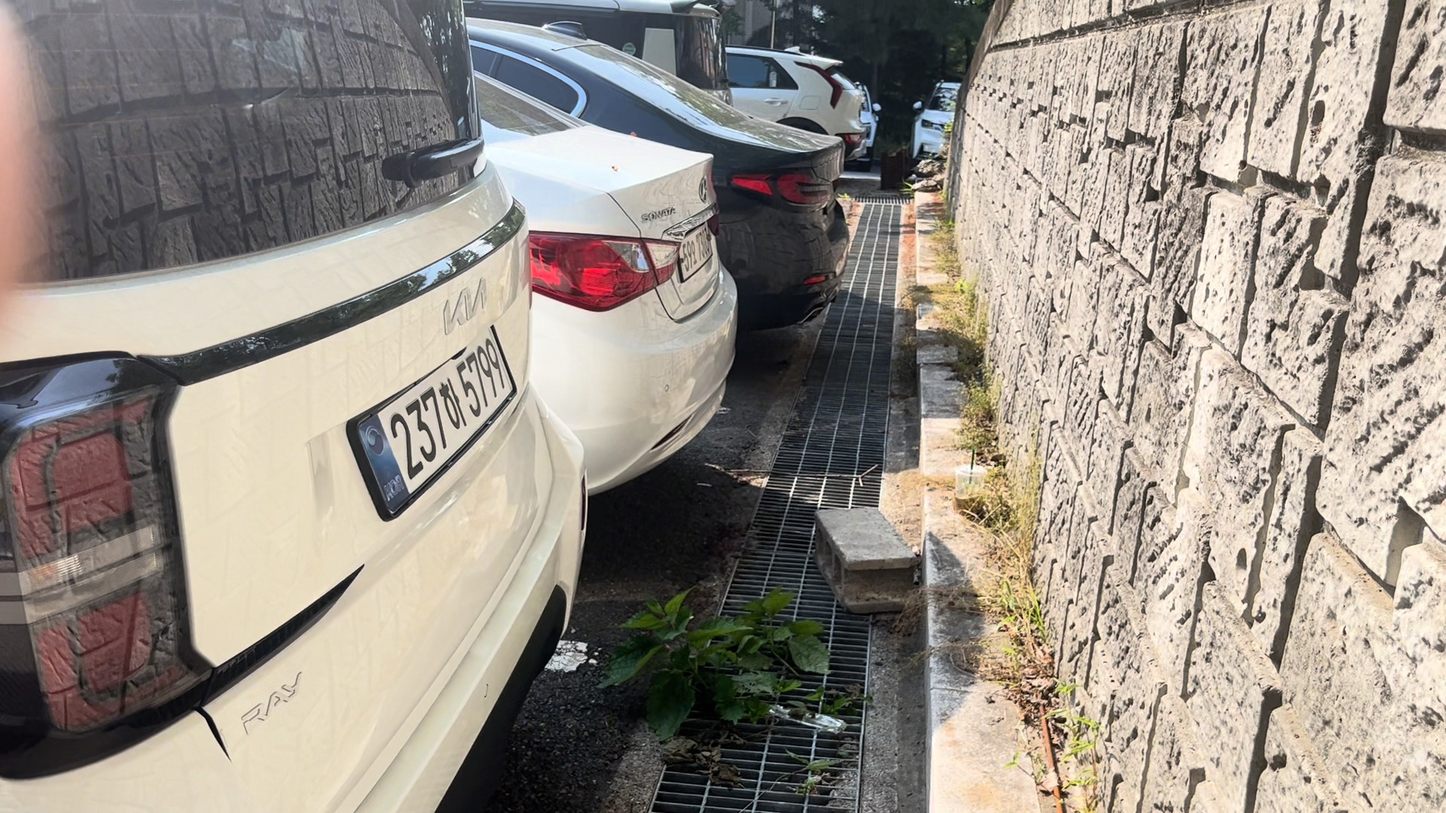car_emblem: (438, 274, 490, 338)
license_plate: (353, 327, 514, 518)
tail_light: (6, 360, 210, 759), (530, 233, 679, 311)
